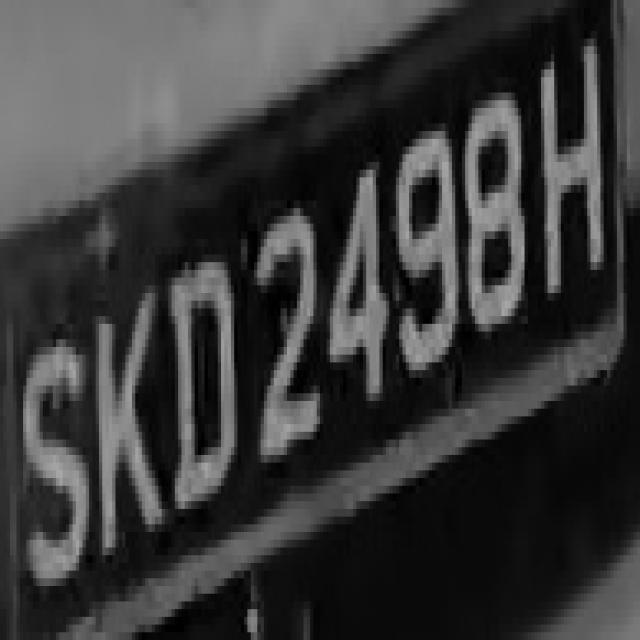2: (244, 193, 327, 493)
4: (303, 162, 396, 447)
8: (452, 69, 534, 355), (389, 108, 462, 393)
D: (162, 231, 238, 517)
H: (528, 16, 614, 316)
K: (86, 270, 155, 555)
S: (10, 293, 89, 601)
